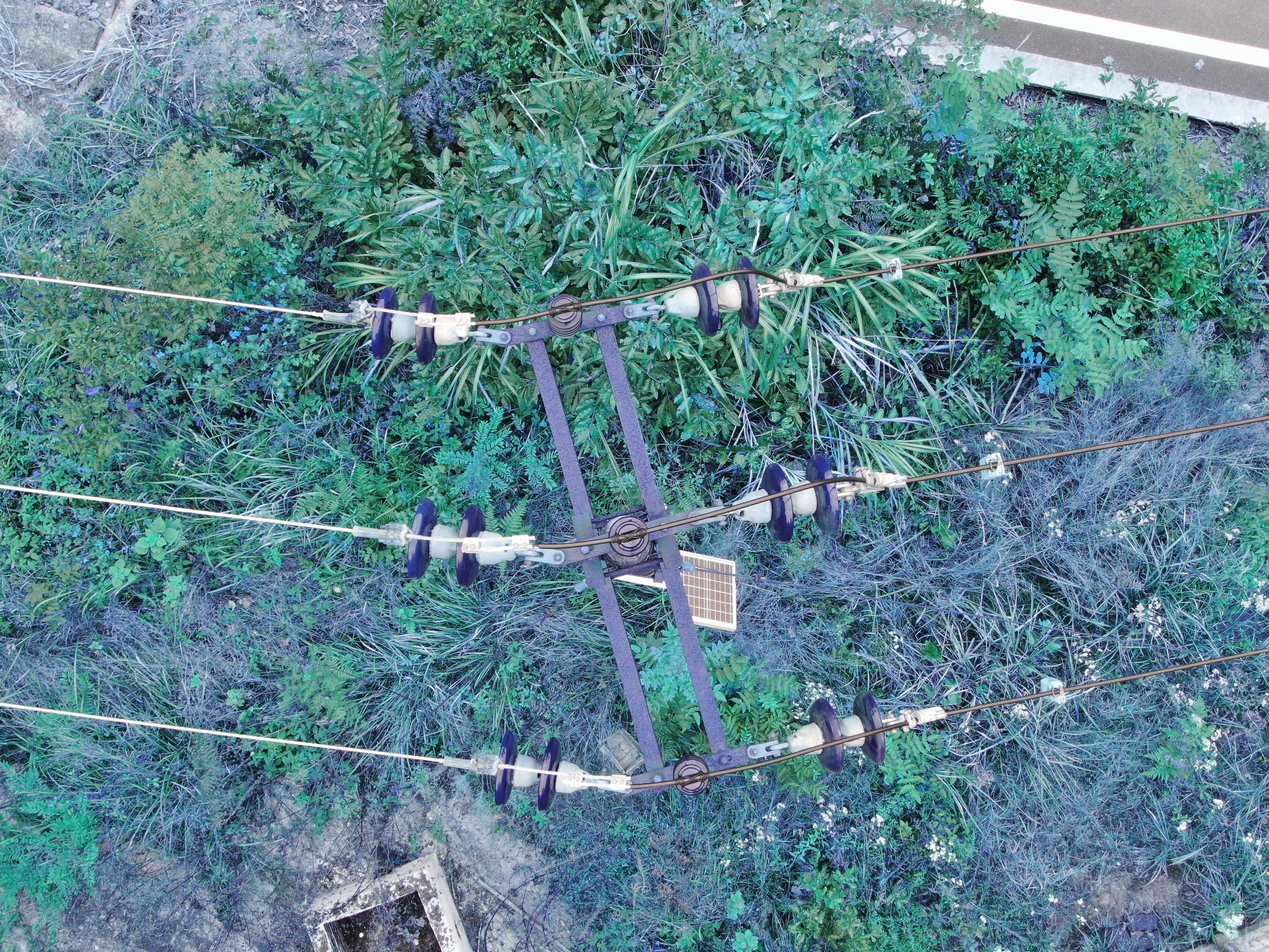severe_soiling_no_discharge_whole: (785, 447, 843, 539)
